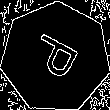P_SE: (25, 29, 86, 86)
